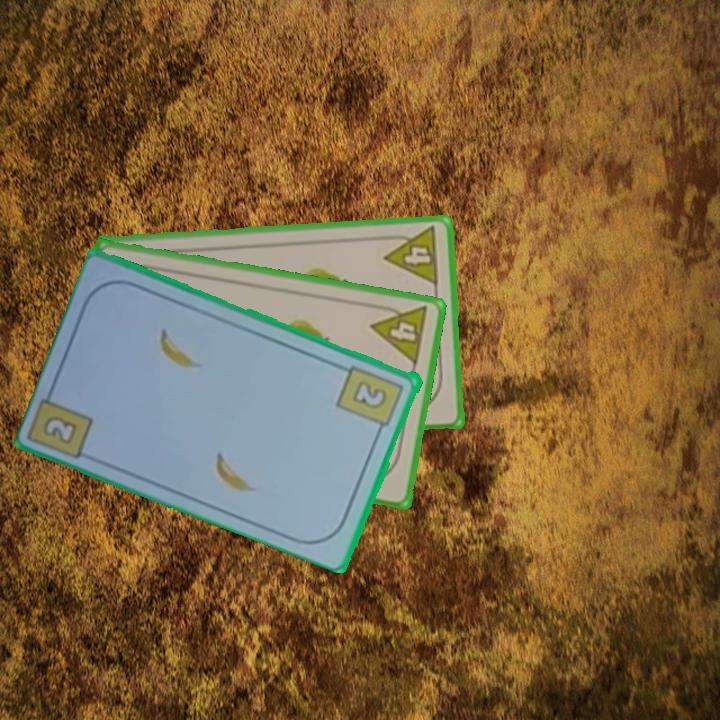2b: (334, 361, 407, 437), (39, 412, 81, 447)
4p: (367, 300, 431, 368), (380, 223, 442, 288)
